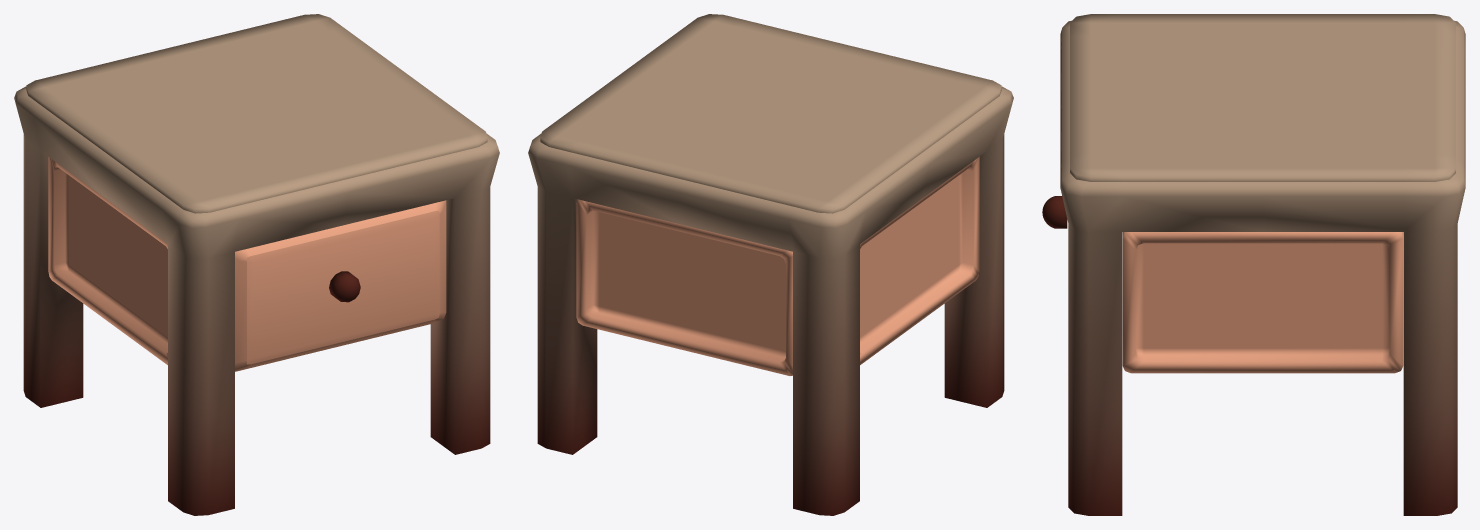
The model's file is Drawer.fbx.
3 renders of one model, left to right at view 1: azimuth 30°, elevation 25°; view 2: azimuth 150°, elevation 25°; view 3: azimuth 270°, elevation 25°, orthographic. The views are drawn at different scales.
Visible parts, largest first — view 1: Drawer; view 2: Drawer; view 3: Drawer.
Part boxes in pixels (<box>): Drawer: <box>14,14,499,515</box>; Drawer: <box>528,14,1013,515</box>; Drawer: <box>1042,14,1465,515</box>.
Bounding box in the file's own units: 0.7528 × 0.6931 × 0.7862.
